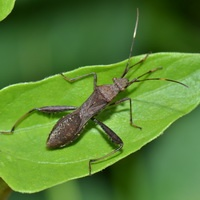insect: (0, 53, 199, 192), (88, 113, 123, 163)
